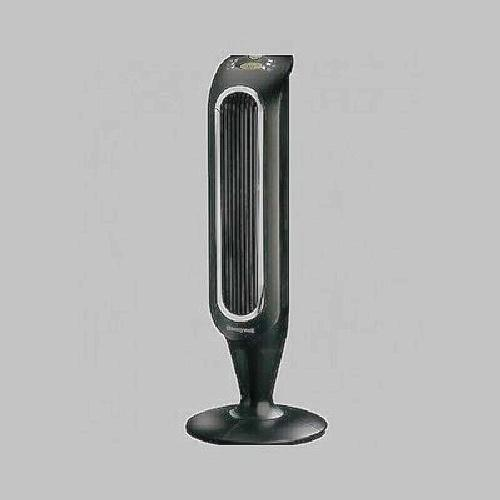fan: (197, 41, 330, 462)
